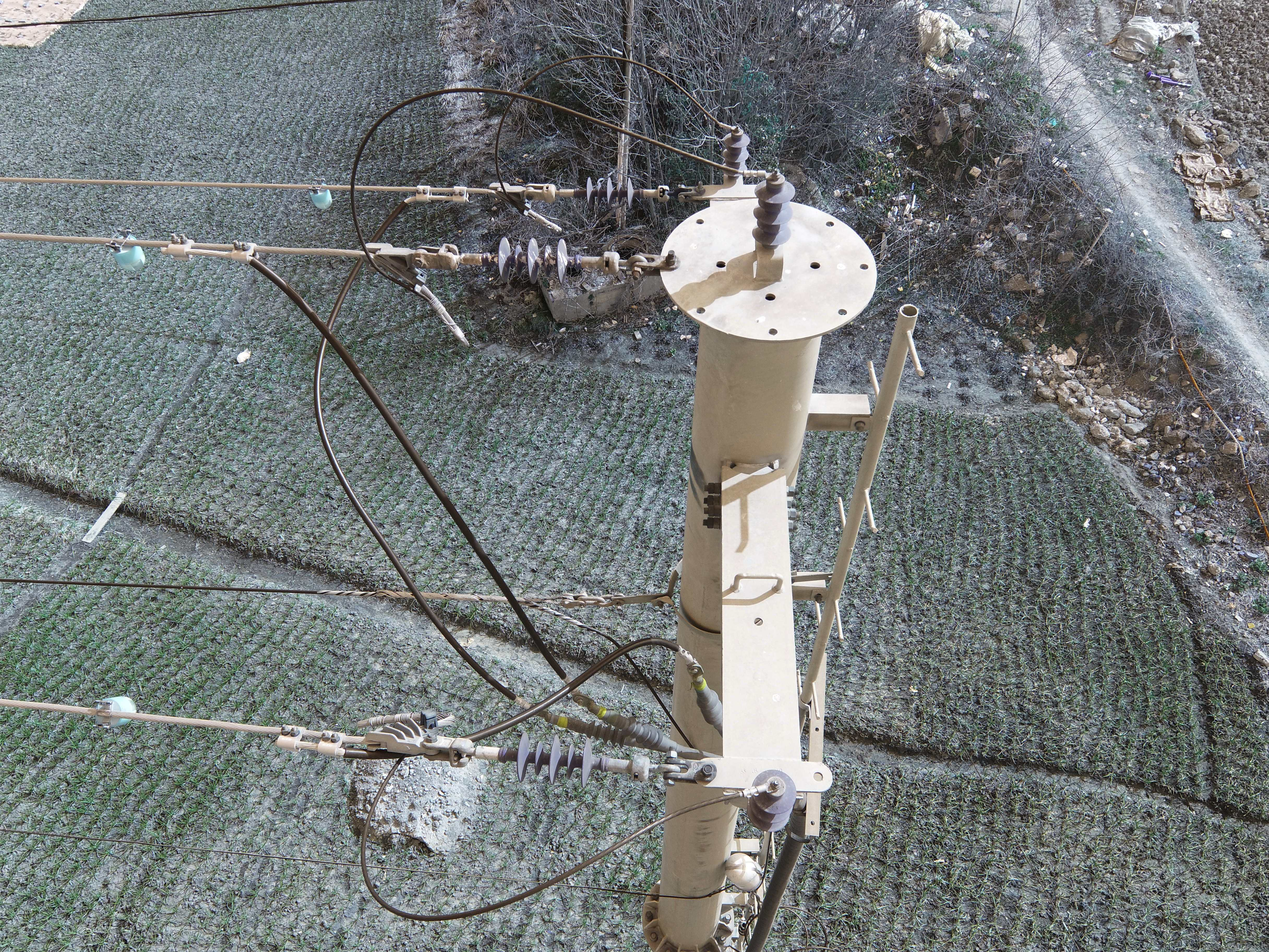severe_soiling_no_discharge_whole: (478, 230, 586, 291)
